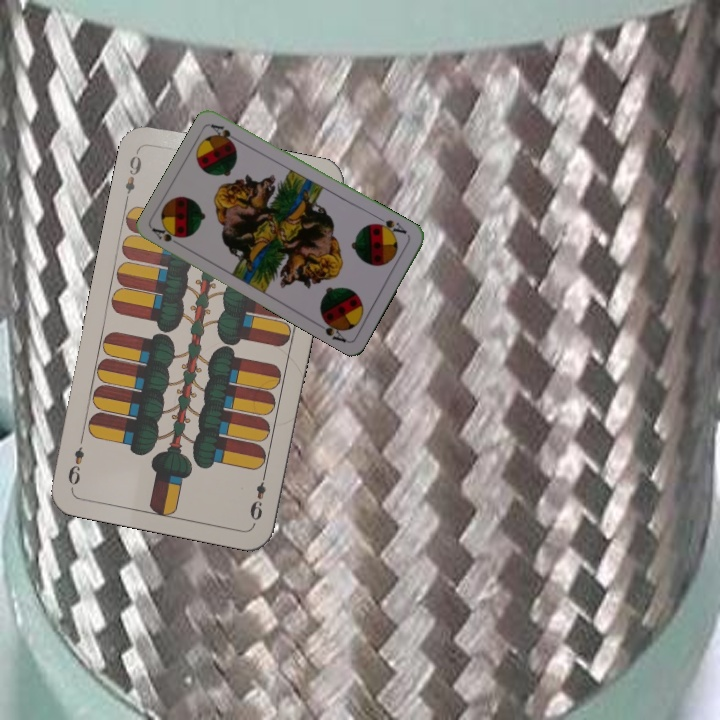E9: (245, 467, 269, 523), (121, 146, 144, 204)
SA: (149, 222, 187, 250), (370, 216, 410, 238)
